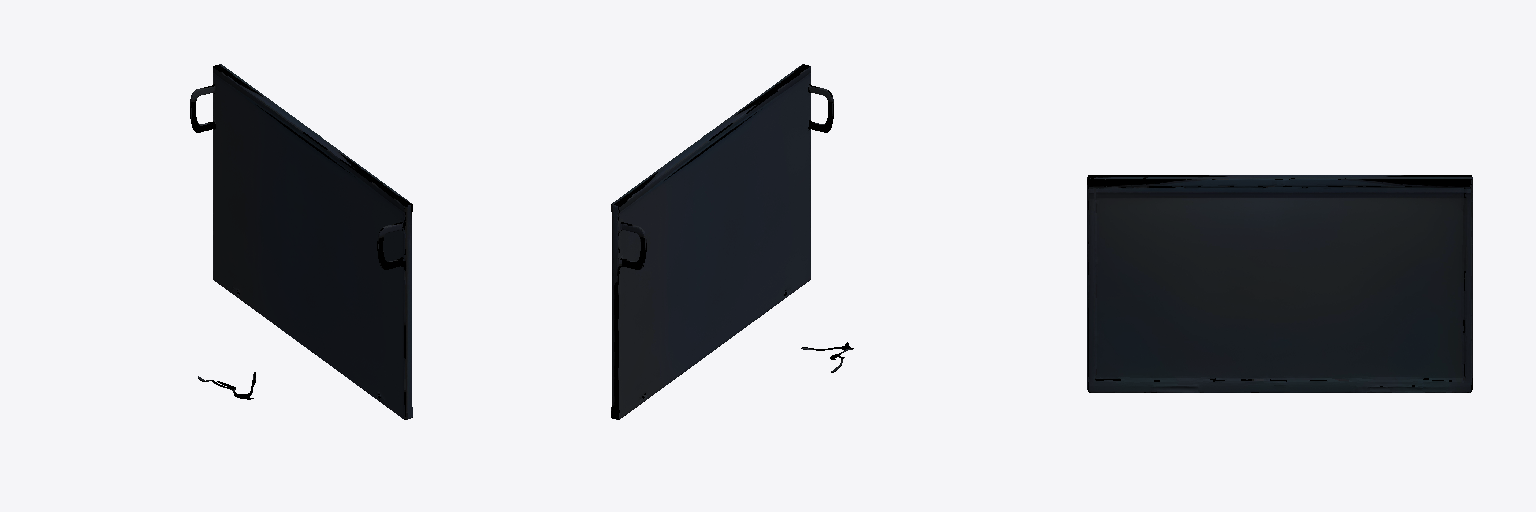
3 views of the same model, side by side, from view 1: azimuth 30°, elevation 25°; view 2: azimuth 150°, elevation 25°; view 3: azimuth 270°, elevation 25° (orthographic).
Parts seen in each view (by area): view 1: tripo_node_120ebe26-0e64-4f4e-9753-251f23898b75; view 2: tripo_node_120ebe26-0e64-4f4e-9753-251f23898b75; view 3: tripo_node_120ebe26-0e64-4f4e-9753-251f23898b75.
Part boxes in pixels (x1,y1,x2,y2): tripo_node_120ebe26-0e64-4f4e-9753-251f23898b75: (190, 64, 412, 419); tripo_node_120ebe26-0e64-4f4e-9753-251f23898b75: (611, 64, 853, 419); tripo_node_120ebe26-0e64-4f4e-9753-251f23898b75: (1087, 175, 1472, 392).
Bounding box in the file's own units: 0.377 × 0.6159 × 1.
Materials: 1 (1 with a texture image).